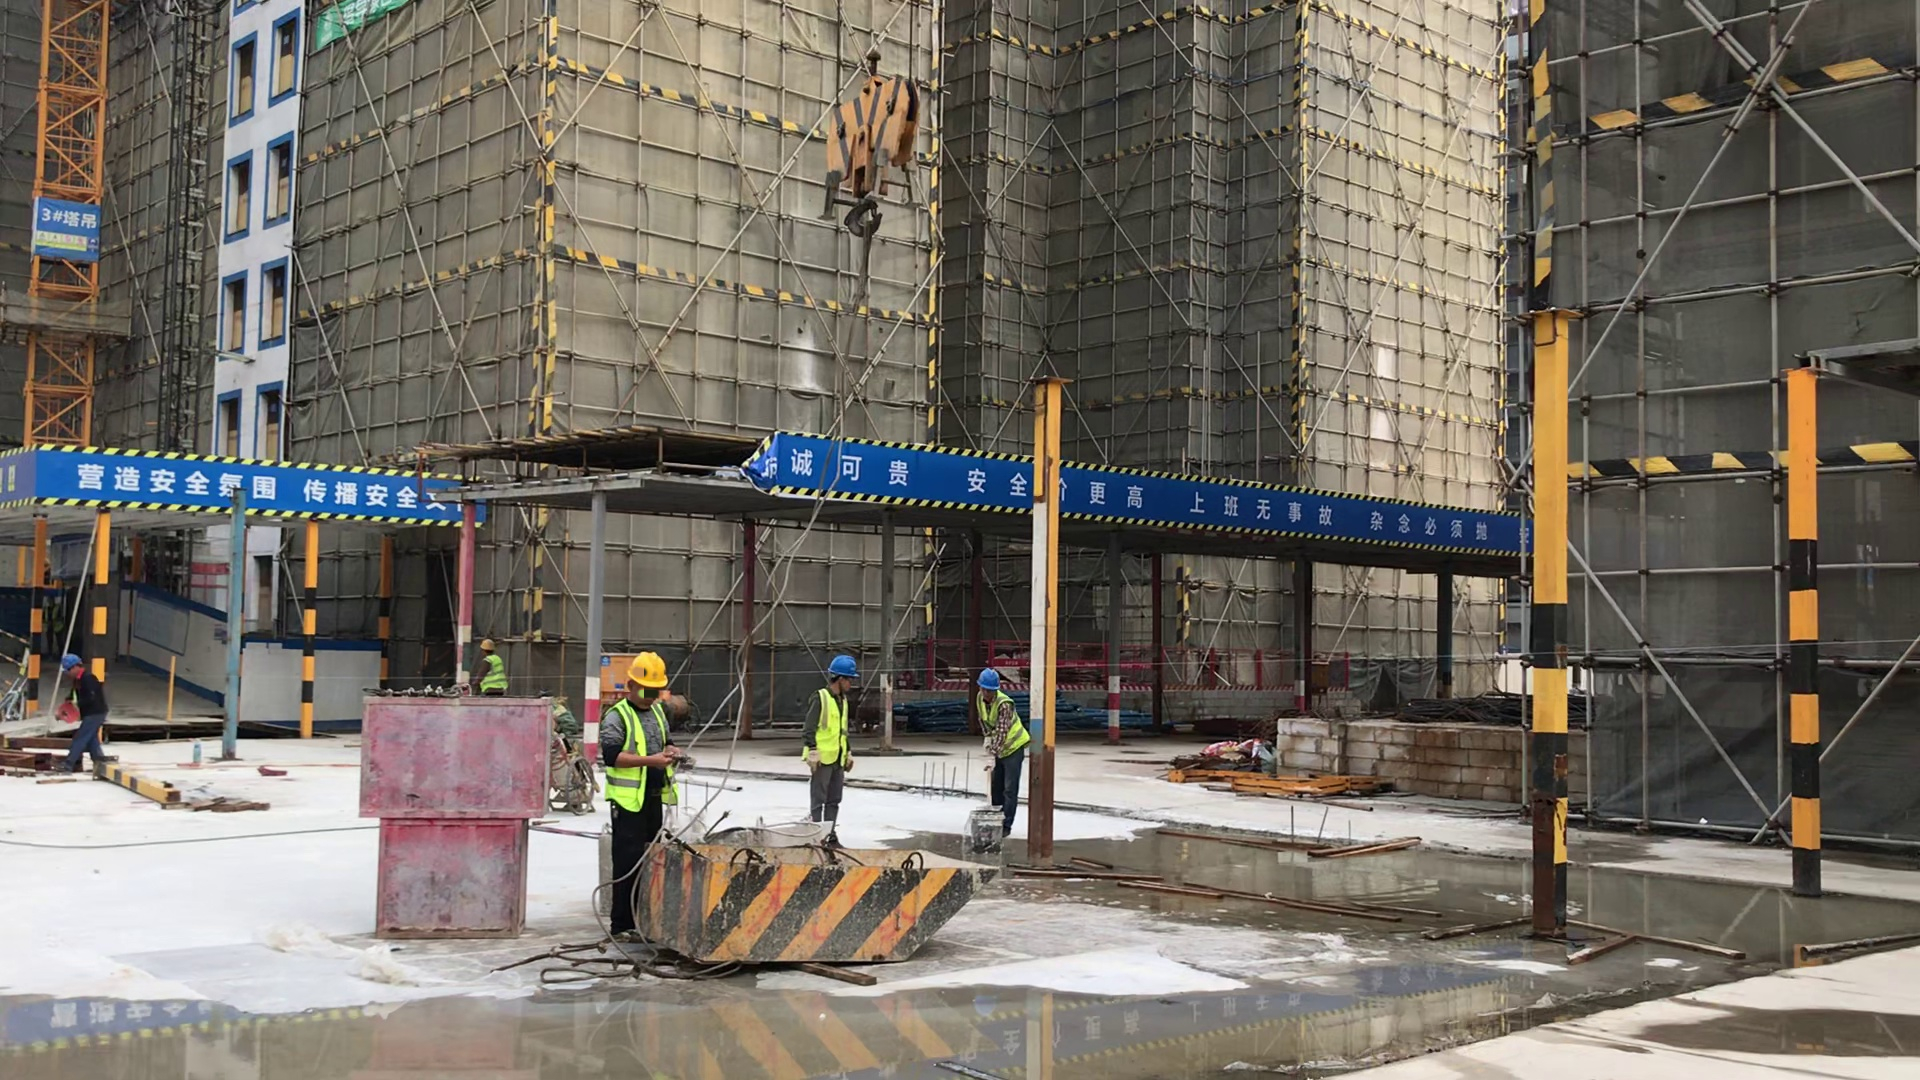helmet: (623, 649, 674, 687), (825, 651, 862, 679), (974, 666, 1006, 689), (59, 652, 85, 671), (479, 635, 497, 651)
person: (582, 643, 693, 956), (958, 665, 1043, 857), (796, 645, 875, 839), (47, 645, 115, 780), (451, 626, 514, 700)
vest: (603, 696, 674, 808), (813, 689, 852, 768), (977, 698, 1028, 750), (476, 656, 505, 691)
